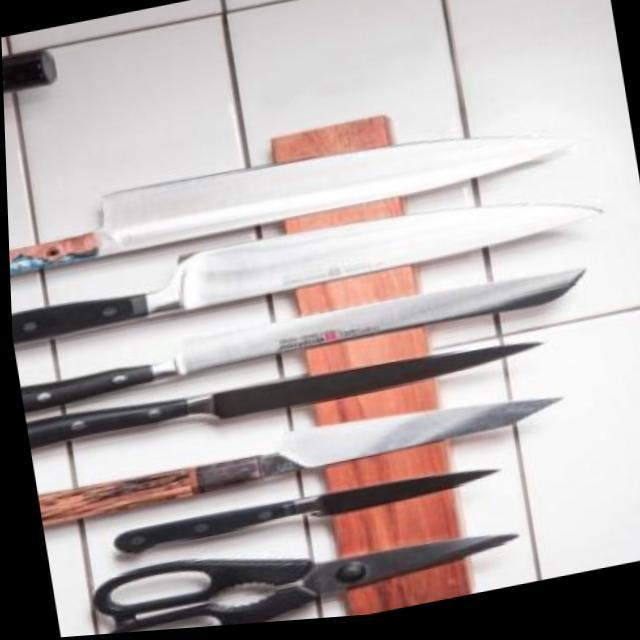weapon: (3, 97, 574, 287), (6, 192, 614, 351), (13, 274, 596, 418), (31, 392, 562, 532), (21, 328, 544, 469), (108, 454, 499, 568)
